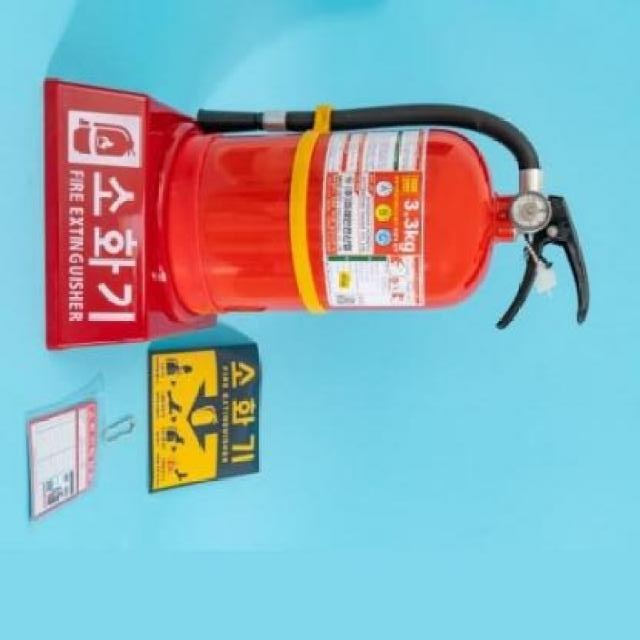fire extinguisher: (167, 103, 590, 329)
